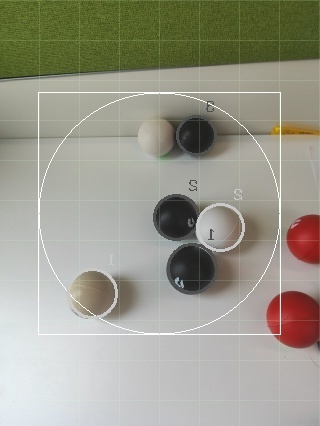Pelota blanca: (66, 268, 121, 320), (197, 201, 246, 254), (138, 116, 177, 158)
Pelota negra: (165, 241, 217, 296), (151, 193, 199, 240), (175, 116, 217, 155)
Pelota roja: (266, 289, 320, 349), (287, 212, 320, 264)
